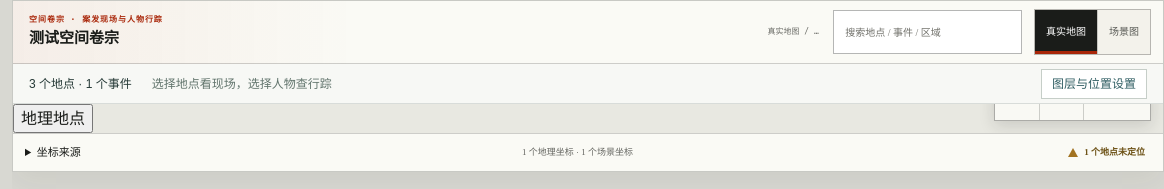
Test: spatial map view › switches CRS modes by destroying and rebuilding the renderer
This screenshot has width=1164, height=189.
Expected: the button with aria-label "地理地点 marker" is shown, [13,104,93,133]
Click the button "场景图".
click(1124, 32)  # box [1097,10,1150,54]
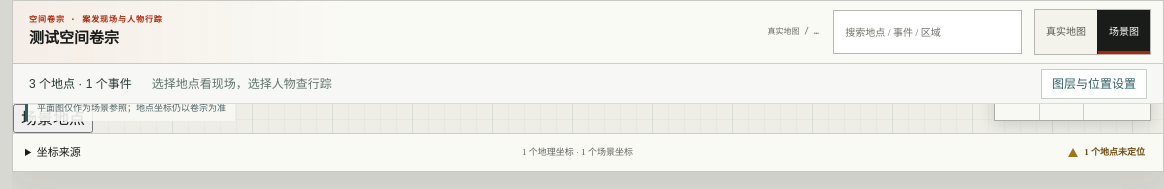
Result: the button with aria-label "场景地点 marker" is shown at [13,104,93,133]
Click the button "真实地图".
click(1066, 32)  # box [1035,10,1097,54]
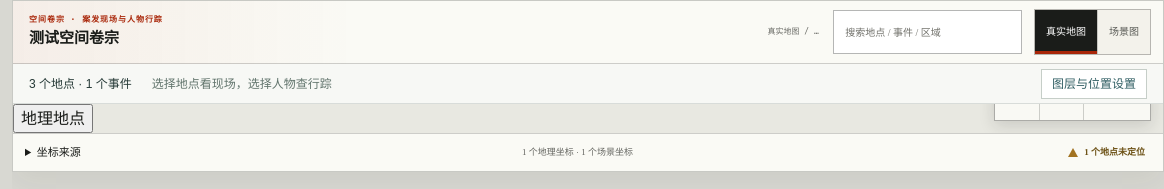
Result: the button with aria-label "地理地点 marker" is shown at [13,104,93,133]
